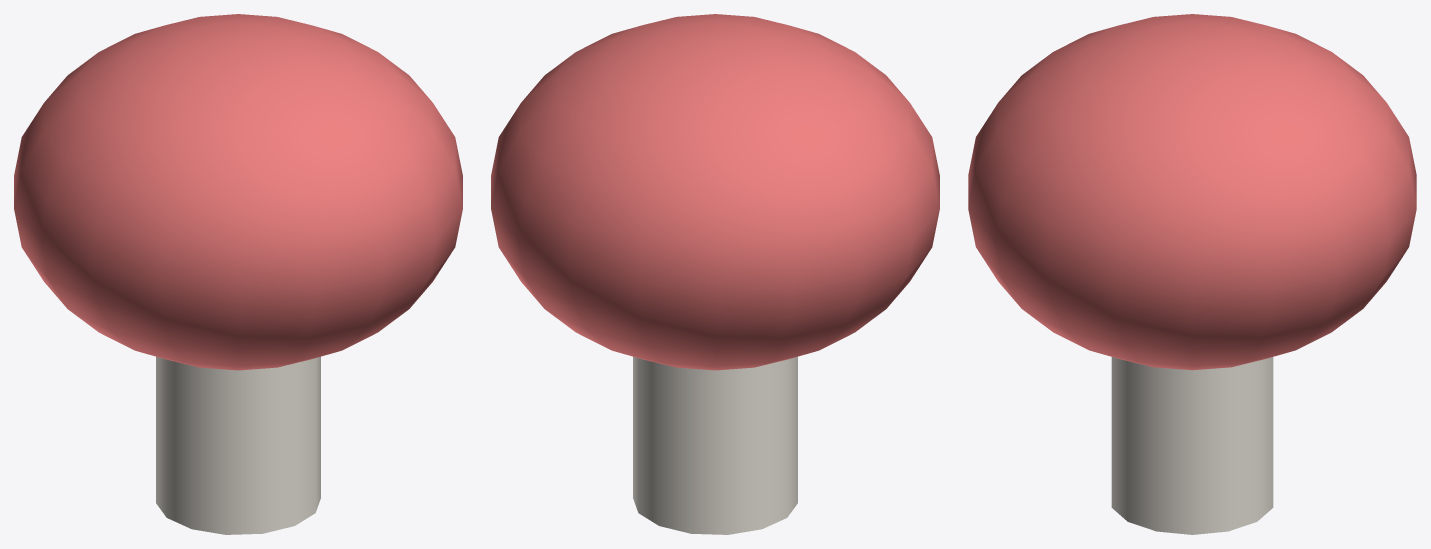
The model's file is mushroom.glb.
3 views of the same model, side by side, from view 1: azimuth 30°, elevation 25°; view 2: azimuth 150°, elevation 25°; view 3: azimuth 270°, elevation 25° (orthographic).
Visible parts, largest first — view 1: Cap, Stem; view 2: Cap, Stem; view 3: Cap, Stem.
Boxes of the visible parts, <box> form: Cap: <box>14,14,462,370</box>; Stem: <box>156,356,320,534</box>; Cap: <box>491,14,939,370</box>; Stem: <box>633,356,797,534</box>; Cap: <box>968,14,1416,370</box>; Stem: <box>1111,357,1273,534</box>.
Bounding box in the file's own units: 0.88 × 0.98 × 0.8666.
